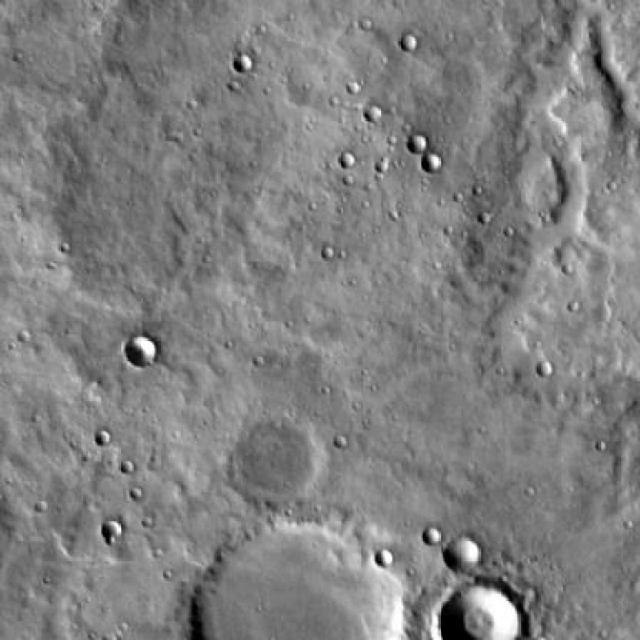crater: (191, 514, 407, 640), (229, 416, 325, 506), (437, 581, 520, 640), (442, 535, 480, 570), (126, 336, 159, 367), (421, 150, 442, 172), (102, 519, 122, 539), (405, 132, 424, 151), (232, 50, 252, 68), (397, 34, 417, 52), (413, 534, 432, 552), (375, 548, 393, 566), (90, 432, 107, 448), (532, 365, 548, 381)
